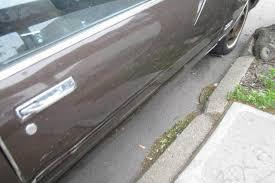doorouter-dent: (0, 60, 127, 182)
